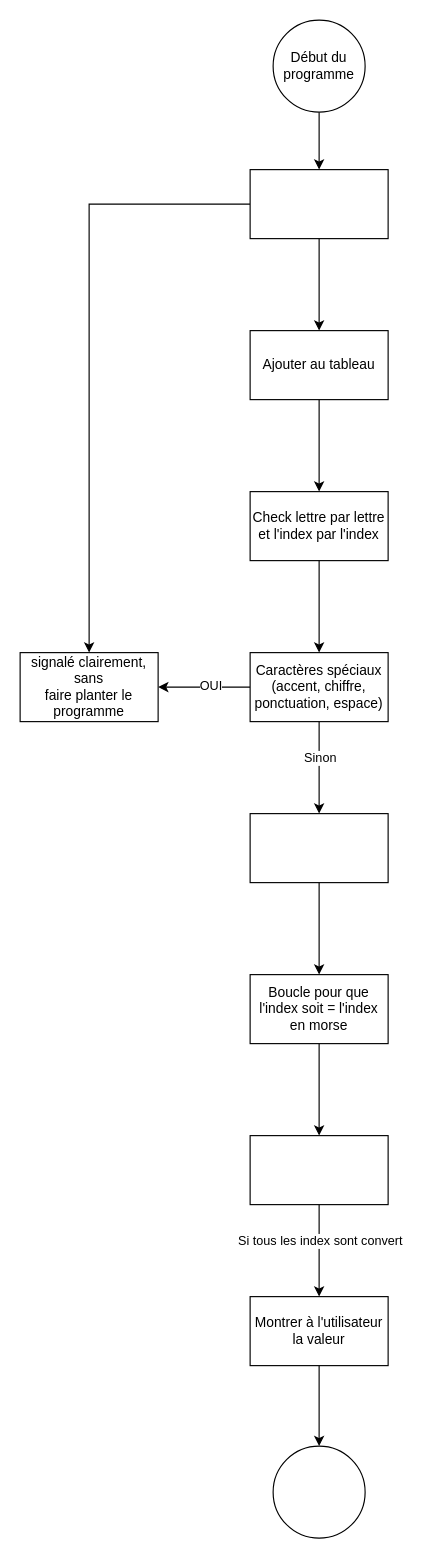
This 422x1558 diagram has some shape labels left out. Each missing label, with the centre of its shape:
Fin: (x=318, y=1491)
L'utilisateur entre sa valeur: (x=318, y=203)
Lettre suivante: (x=318, y=1169)
Tout en majuscule: (x=318, y=847)
